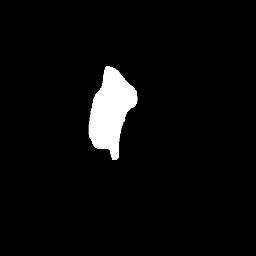mass: (94, 72, 141, 157)
